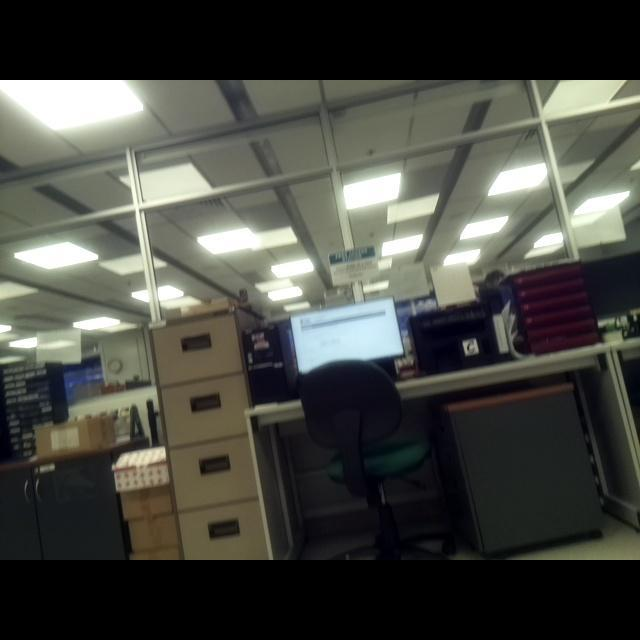C: (466, 341, 476, 355)
